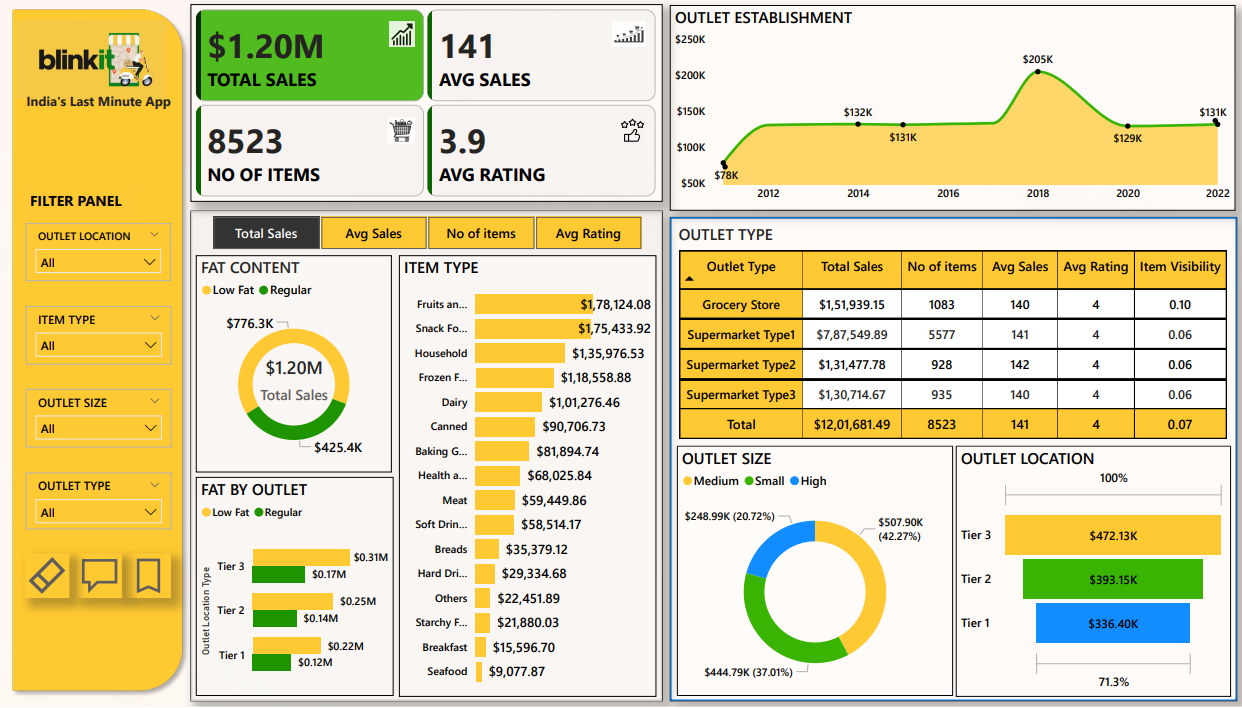

Layout of this report page (visuals, bound fields, positions):
{"tool":"powerbi","page":{"name":"Page 1","canvas":[1400,800],"ordinal":0},"visuals":[{"type":"shape","box":[11.2,8,208,782.4],"z":0},{"type":"image","box":[20,0,177.1,145.7],"z":1000},{"type":"textbox","box":[18.6,104.3,194.3,37.1],"z":2000},{"type":"cardVisual","fields":{"Data":["BlinkIT Grocery Data.Total Sales","BlinkIT Grocery Data.Avg Sales","BlinkIT Grocery Data.No of items","BlinkIT Grocery Data.Avg Rating"]},"box":[219.2,11.2,529.6,222],"z":3000},{"type":"shape","box":[219.2,243.2,529.6,550.4],"z":4000},{"type":"donutChart","title":"FAT CONTENT","fields":{"Y":["BlinkIT Grocery Data.Total Sales"],"Category":["BlinkIT Grocery Data.Item Fat Content"]},"box":[225,293.3,220,243.3],"z":5000},{"type":"areaChart","title":"OUTLET ESTABLISHMENT","fields":{"Category":["BlinkIT Grocery Data.Outlet Establishment Year"],"Y":["BlinkIT Grocery Data.Total Sales"]},"box":[756.7,11.7,635,231.7],"z":6000},{"type":"slicer","fields":{"Values":["Metrics.Metrics"]},"box":[219.2,243.2,529.6,49.6],"z":7000},{"type":"card","fields":{"Values":["BlinkIT Grocery Data.Total Sales"]},"box":[236.8,368,196.8,126.4],"z":8000},{"type":"clusteredBarChart","title":"FAT BY OUTLET","fields":{"Y":["BlinkIT Grocery Data.Total Sales"],"Category":["BlinkIT Grocery Data.Outlet Location Type"],"Series":["BlinkIT Grocery Data.Item Fat Content"]},"box":[225,541.7,221.7,246.7],"z":9000},{"type":"clusteredBarChart","title":"ITEM TYPE","fields":{"Y":["BlinkIT Grocery Data.Total Sales"],"Category":["BlinkIT Grocery Data.Item Type"]},"box":[453.3,293.3,288.3,496],"z":10000},{"type":"shape","box":[756.8,249.6,637,544],"z":11000},{"type":"donutChart","title":"OUTLET SIZE","fields":{"Y":["BlinkIT Grocery Data.Total Sales"],"Category":["BlinkIT Grocery Data.Outlet Size"]},"box":[765,506.7,310,281.7],"z":12000},{"type":"funnel","title":"OUTLET LOCATION","fields":{"Y":["BlinkIT Grocery Data.Total Sales"],"Category":["BlinkIT Grocery Data.Outlet Location Type"]},"box":[1078.4,507.2,308.8,281.6],"z":13000},{"type":"tableEx","title":"OUTLET TYPE","fields":{"Values":["BlinkIT Grocery Data.Outlet Type","BlinkIT Grocery Data.Total Sales","BlinkIT Grocery Data.No of items","BlinkIT Grocery Data.Avg Sales","BlinkIT Grocery Data.Avg Rating","Avg(BlinkIT Grocery Data.Item Visibility)"]},"box":[761.7,256.7,626.7,251.7],"z":14000},{"type":"slicer","fields":{"Values":["BlinkIT Grocery Data.Outlet Location Type"]},"box":[34.4,256.7,162.2,65.6],"z":15000},{"type":"slicer","fields":{"Values":["BlinkIT Grocery Data.Outlet Size"]},"box":[34.4,443.3,163.3,65.6],"z":16000},{"type":"slicer","fields":{"Values":["BlinkIT Grocery Data.Item Type"]},"box":[34.4,350,163.3,65.6],"z":17000},{"type":"slicer","fields":{"Values":["BlinkIT Grocery Data.Outlet Type"]},"box":[34.4,536.7,163.3,64.4],"z":18000},{"type":"actionButton","box":[33.3,627.8,50,50],"z":19000},{"type":"actionButton","box":[92.2,627.8,50,50],"z":20000},{"type":"actionButton","box":[146.7,627.8,50,50],"z":21000},{"type":"textbox","box":[34.3,215.7,128.6,34.3],"z":21001}]}

Visuals, with their boxes in screenshot pixels (x1, y1, x2, y2), scaled from the page's 1400x800 canvas onto the 1242x708 screenshot:
shape: <box>10,7,194,700</box>
image: <box>18,0,175,129</box>
textbox: <box>17,92,189,125</box>
cardVisual - BlinkIT Grocery Data.Total Sales x BlinkIT Grocery Data.Avg Sales: <box>194,10,664,206</box>
shape: <box>194,215,664,702</box>
"FAT CONTENT" donutChart: <box>200,260,395,475</box>
"OUTLET ESTABLISHMENT" areaChart: <box>671,10,1235,215</box>
slicer - Metrics.Metrics: <box>194,215,664,259</box>
card - BlinkIT Grocery Data.Total Sales: <box>210,326,385,438</box>
"FAT BY OUTLET" clusteredBarChart: <box>200,479,396,698</box>
"ITEM TYPE" clusteredBarChart: <box>402,260,658,699</box>
shape: <box>671,221,1236,702</box>
"OUTLET SIZE" donutChart: <box>679,448,954,698</box>
"OUTLET LOCATION" funnel: <box>957,449,1231,698</box>
"OUTLET TYPE" tableEx: <box>676,227,1232,450</box>
slicer - BlinkIT Grocery Data.Outlet Location Type: <box>31,227,174,285</box>
slicer - BlinkIT Grocery Data.Outlet Size: <box>31,392,175,450</box>
slicer - BlinkIT Grocery Data.Item Type: <box>31,310,175,368</box>
slicer - BlinkIT Grocery Data.Outlet Type: <box>31,475,175,532</box>
actionButton: <box>30,556,74,600</box>
actionButton: <box>82,556,126,600</box>
actionButton: <box>130,556,175,600</box>
textbox: <box>30,191,145,221</box>
